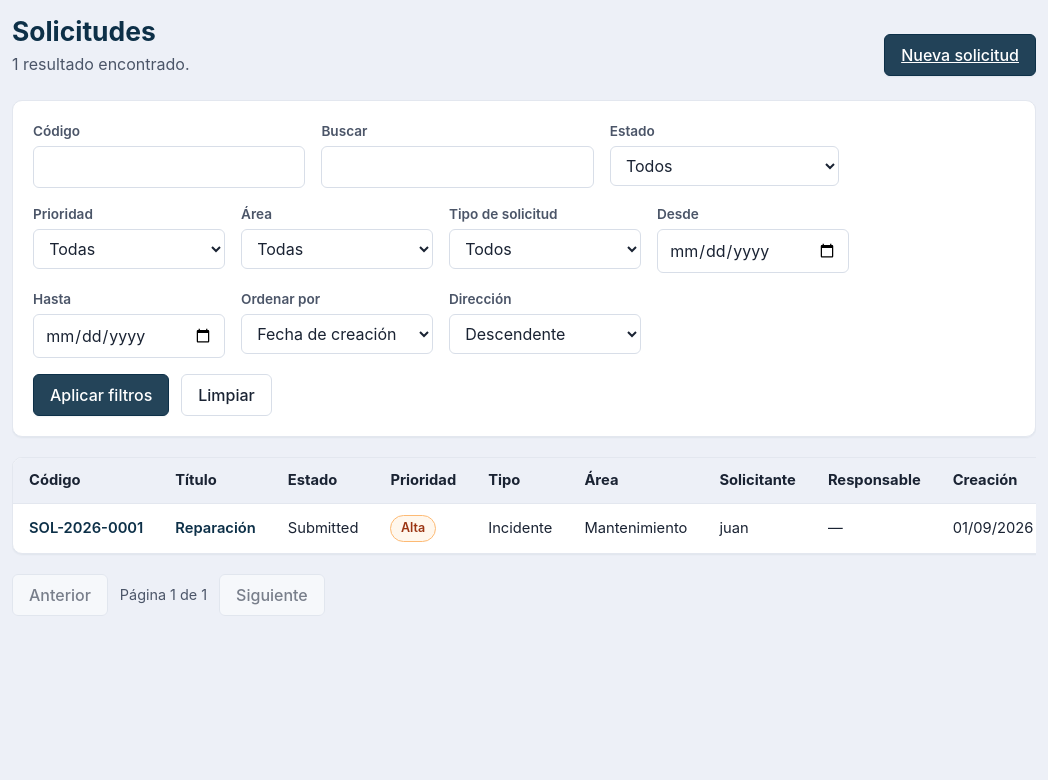
Test: RequestsPage › re-fetches when a filter is submitted
Expected: the link "SOL-2026-0001" is shown, [29,519,143,537]
Type "urgente" into the field with test id "filter-request-search" at (458, 167), box [321,146,594,188]
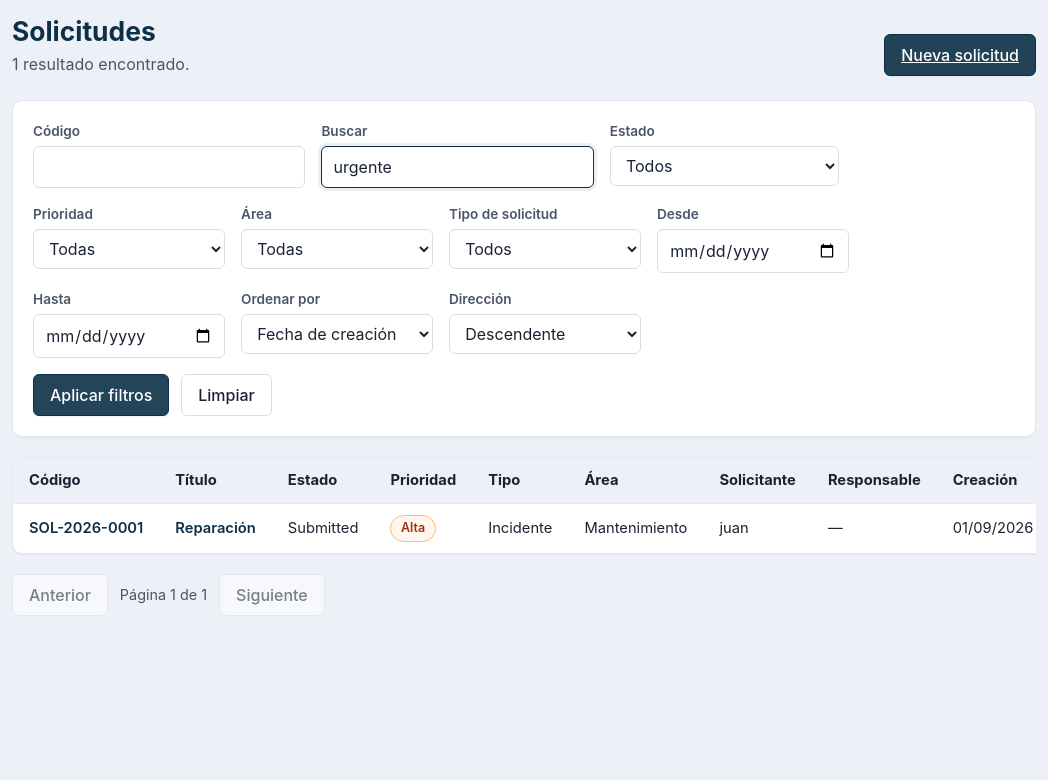
Click the button with test id "filter-request-submit" at (101, 395), box [33,374,169,416]
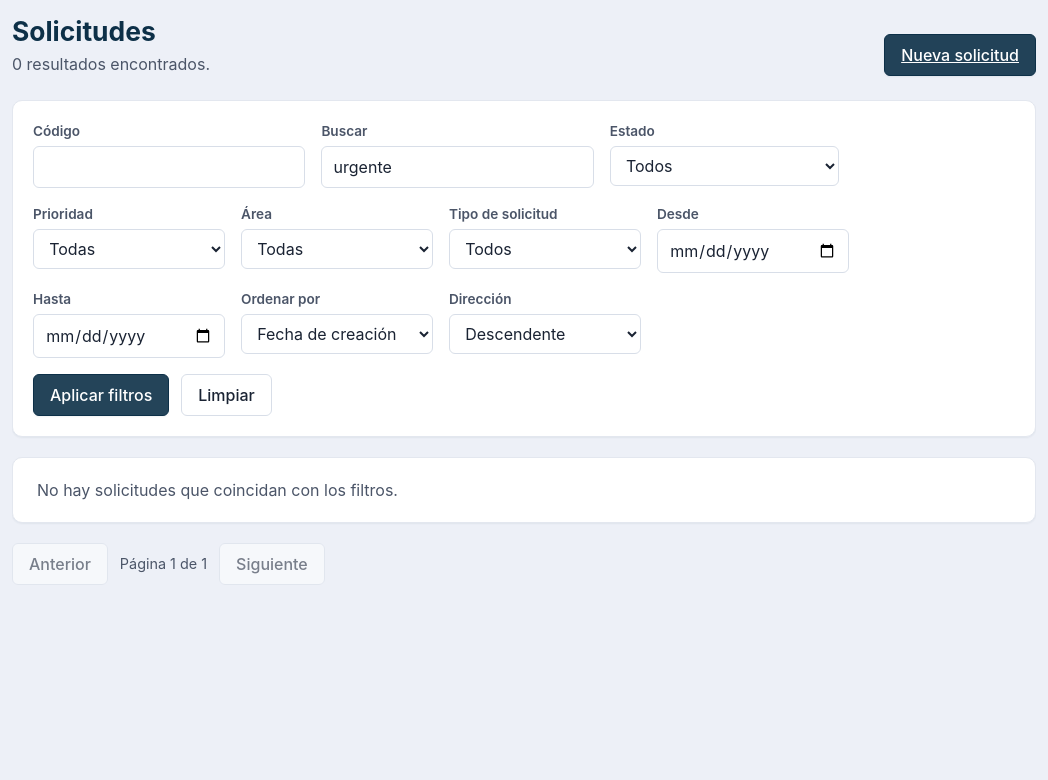
Expected: the text "No hay solicitudes que coincidan con los filtros." is shown, [12,457,1036,523]
